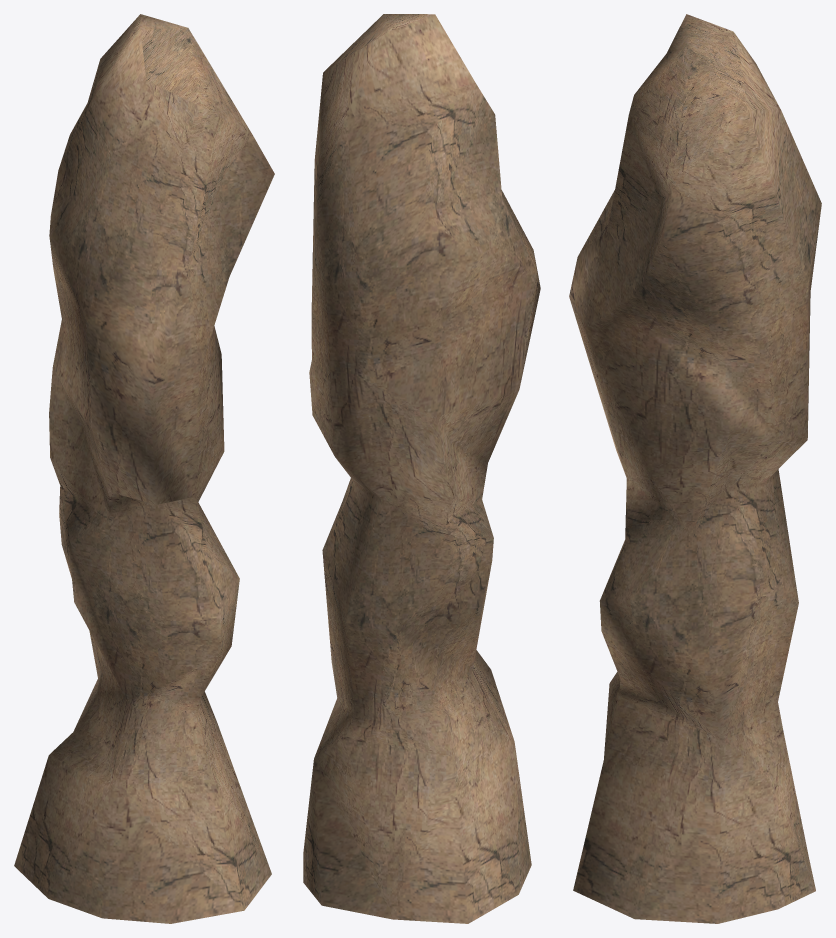
Rendered from rock_tatt_spire_smooth_a2_l1.fbx.
The picture shows the model from 3 angles, left to right: view 1: azimuth 30°, elevation 25°; view 2: azimuth 150°, elevation 25°; view 3: azimuth 270°, elevation 25°; orthographic projection.
Visible parts, largest first — view 1: mesh_node; view 2: mesh_node; view 3: mesh_node.
Boxes of the visible parts, <box> form: mesh_node: <box>14,14,274,923</box>; mesh_node: <box>303,14,540,923</box>; mesh_node: <box>569,14,821,923</box>.
Bounding box in the file's own units: 17.19 × 66.58 × 17.87.
Materials: 1 (1 with a texture image).
